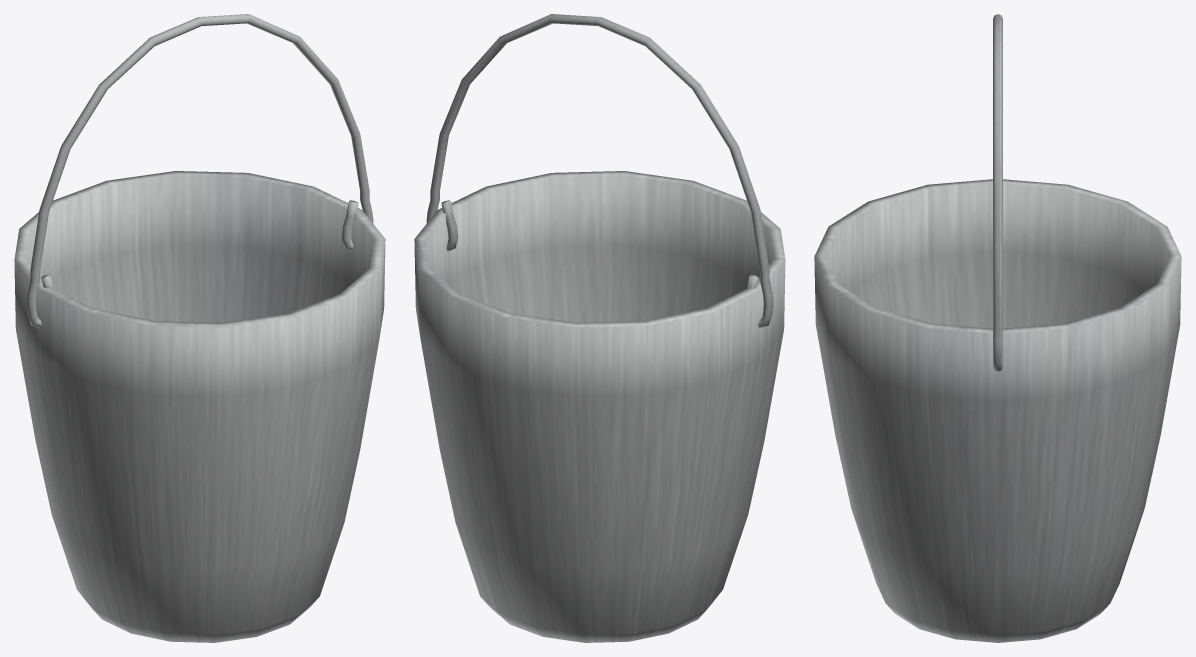
The model's file is Shove.fbx.
3 renders of one model, left to right at view 1: azimuth 30°, elevation 25°; view 2: azimuth 150°, elevation 25°; view 3: azimuth 270°, elevation 25°, orthographic.
Parts seen in each view (by area): view 1: Cylinder.005; view 2: Cylinder.005; view 3: Cylinder.005.
Part boxes in pixels (x1,y1,x2,y2): Cylinder.005: [14, 14, 385, 642]; Cylinder.005: [414, 14, 785, 642]; Cylinder.005: [814, 14, 1181, 642].
Size of the model in its own units: 21.85 by 20.47 by 34.9.
Materials: 1 (1 with a texture image).
